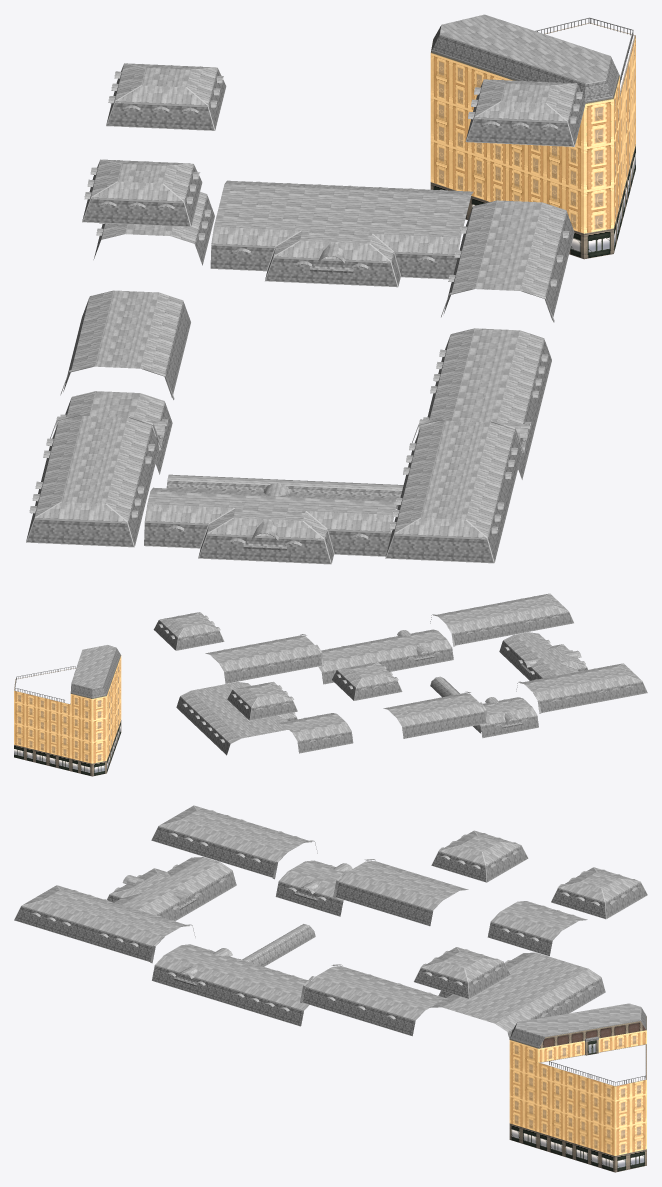
3 renders of one model, top to bottom at view 1: azimuth 30°, elevation 25°; view 2: azimuth 150°, elevation 25°; view 3: azimuth 270°, elevation 25°, orthographic. The views are drawn at different scales.
Visible parts, largest first — view 1: um_b19_1_model_b19_1_modelShape, ik_mobbuilding04_base5; view 2: um_b19_1_model_b19_1_modelShape, ik_mobbuilding04_base5; view 3: um_b19_1_model_b19_1_modelShape, ik_mobbuilding04_base5.
Boxes of the visible parts, x1,y1,x2,y2 form: um_b19_1_model_b19_1_modelShape: (26, 17, 633, 564); ik_mobbuilding04_base5: (430, 14, 635, 259); um_b19_1_model_b19_1_modelShape: (14, 593, 647, 755); ik_mobbuilding04_base5: (14, 645, 121, 776); um_b19_1_model_b19_1_modelShape: (14, 805, 647, 1085); ik_mobbuilding04_base5: (509, 1003, 646, 1172).
Bounding box in the file's own units: 135 × 29.97 × 123.
Materials: 8 (8 with a texture image).
